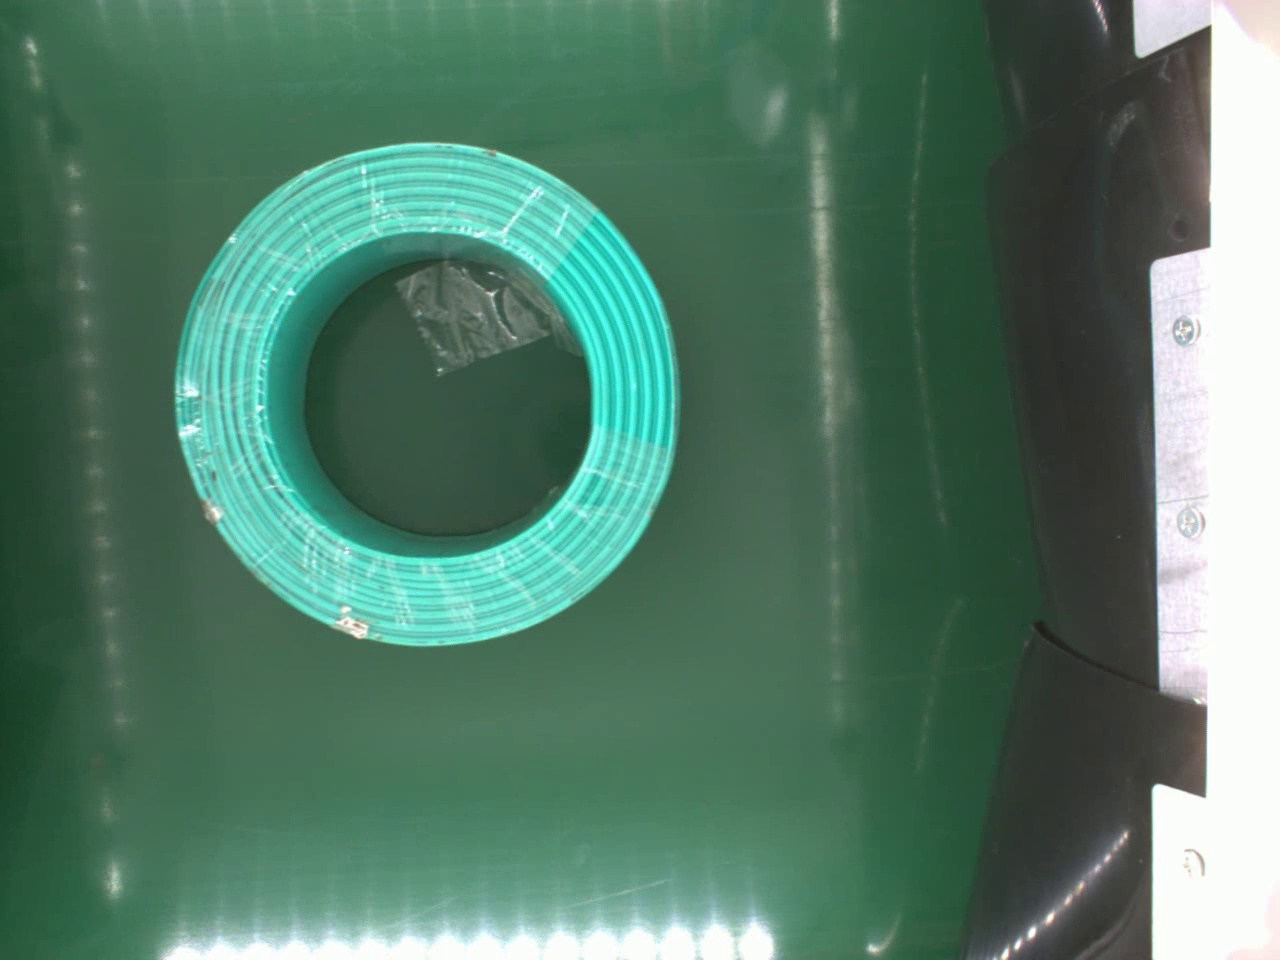green: (173, 135, 682, 650)
